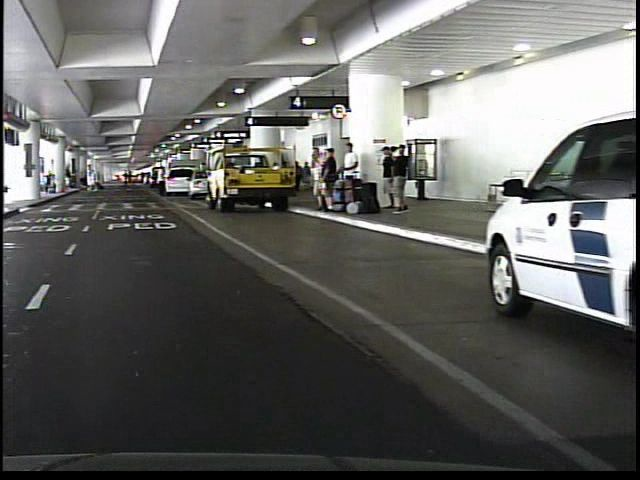person: (388, 144, 406, 217), (304, 145, 323, 209), (80, 162, 96, 196), (151, 165, 161, 196)
